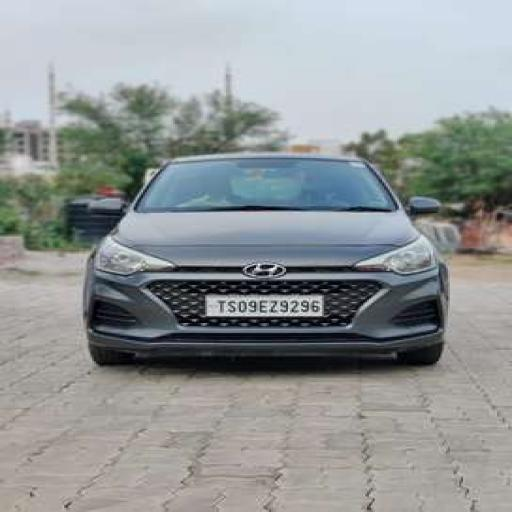license_plate`: (203, 292, 322, 315)
